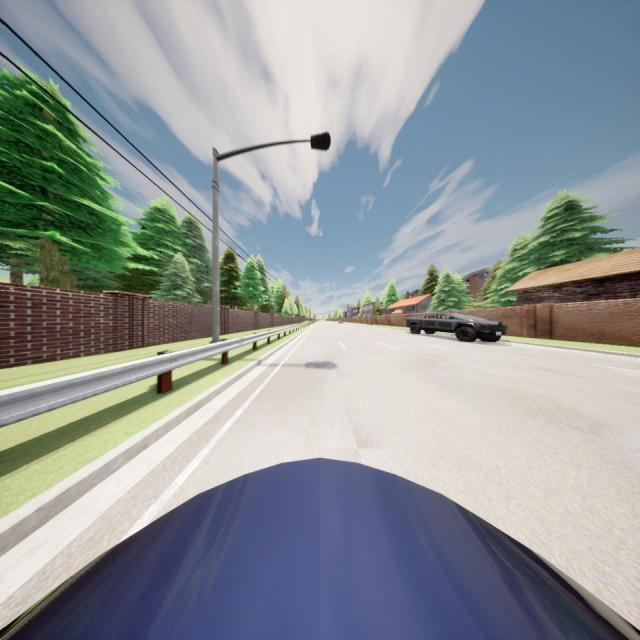Vehicle: (1, 455, 640, 640), (406, 312, 507, 342)
